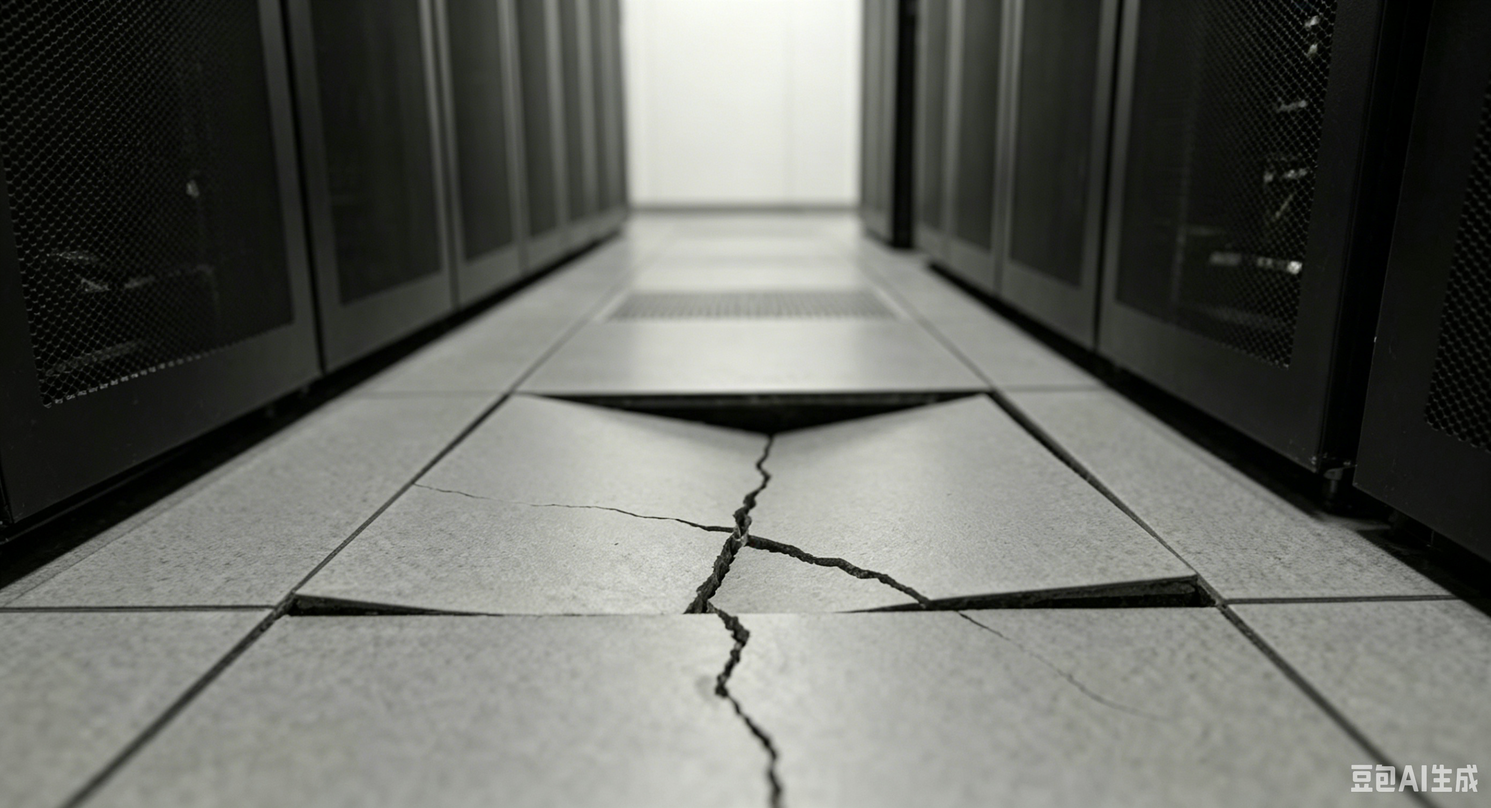floor_defect: (277, 384, 1227, 629), (694, 626, 801, 799)
